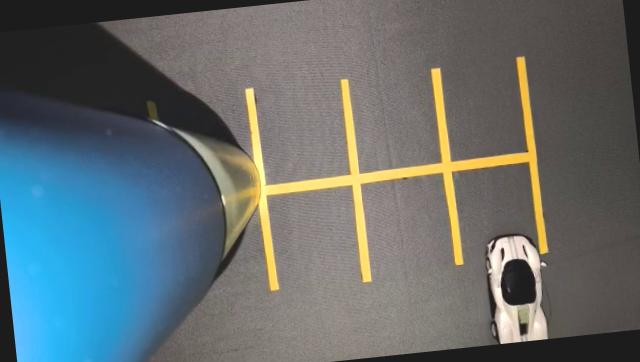toy_car: (410, 207, 572, 352)
